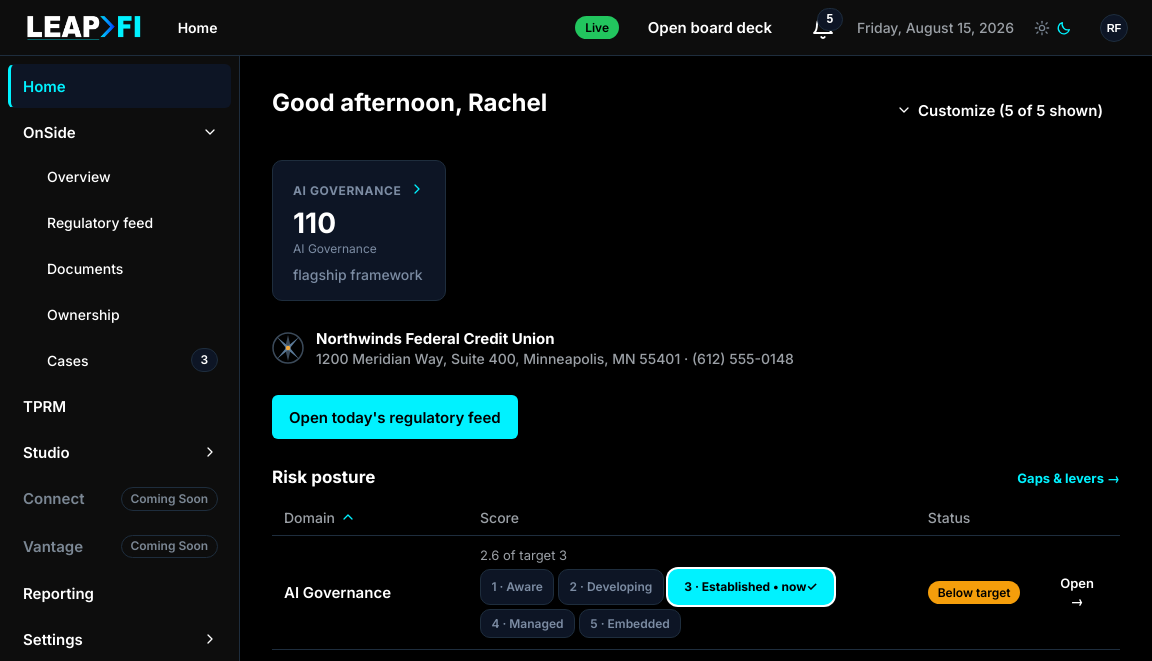
Test: BackChip struck (D20): no "Back to X" control survives navigation, and the Home logo control persists › "Open board deck" navigates to the deck without producing a back-chip (base boardDeck() 2393–2448; topbar L823–854)
Click the button "Open board deck": (710, 28) [631,6,789,50]
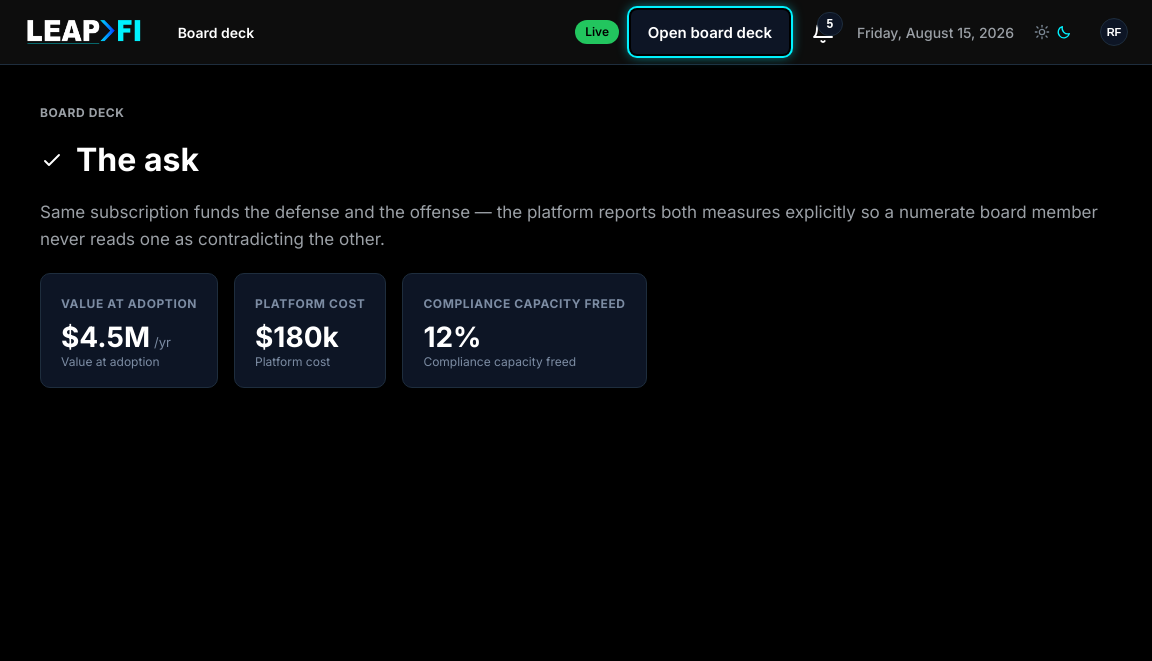
Check: the button named "LeapFI — Home" is shown, box [16,10,166,54]
Check: the text "Board deck" in the row of "Live" is shown, box [178,24,254,40]
